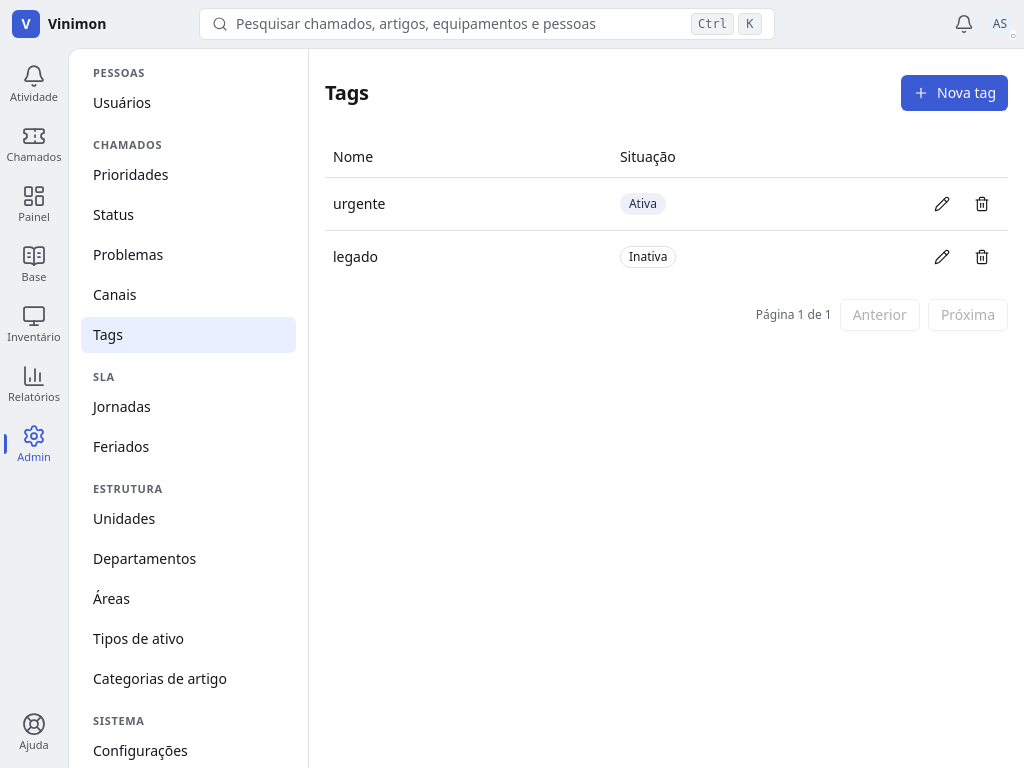
Test: /admin/tags › (c) 409 ao excluir mostra a mensagem do servidor
What coordinates should you click on to do the following:
click the button named "Excluir urgente"
I would click on:
 (982, 204)
Its box is x1=964 y1=186 x2=1000 y2=222.
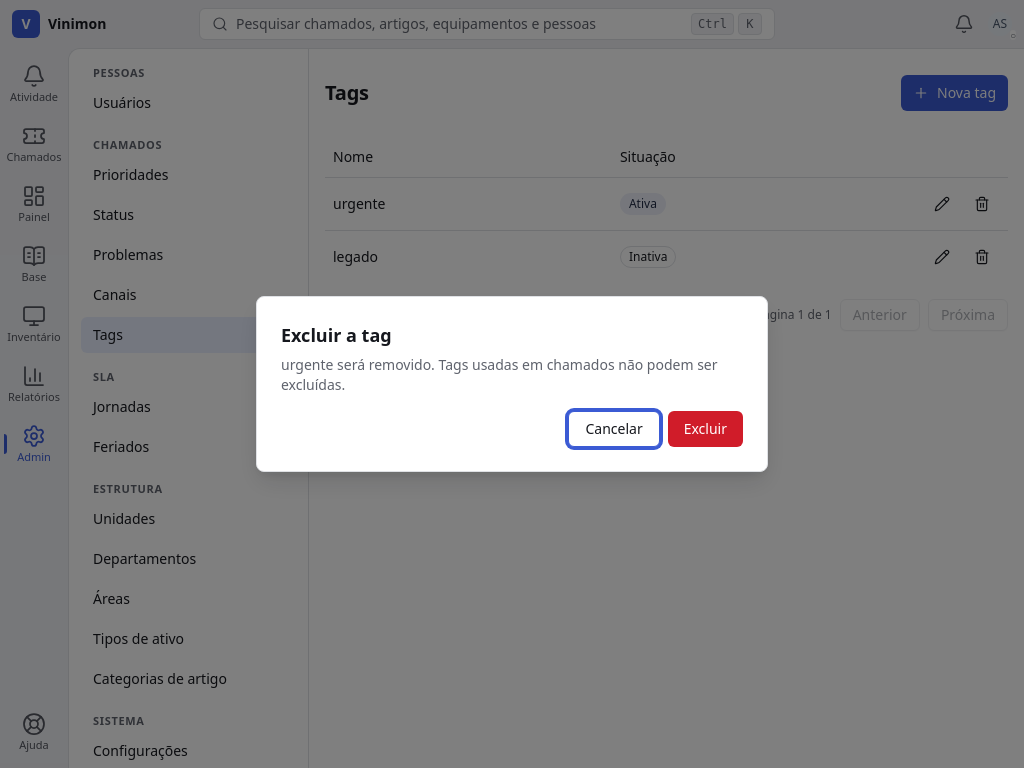
What coordinates should you click on to do the following:
click the button "Excluir"
I would click on:
 (705, 429)
Its box is x1=668 y1=411 x2=743 y2=447.
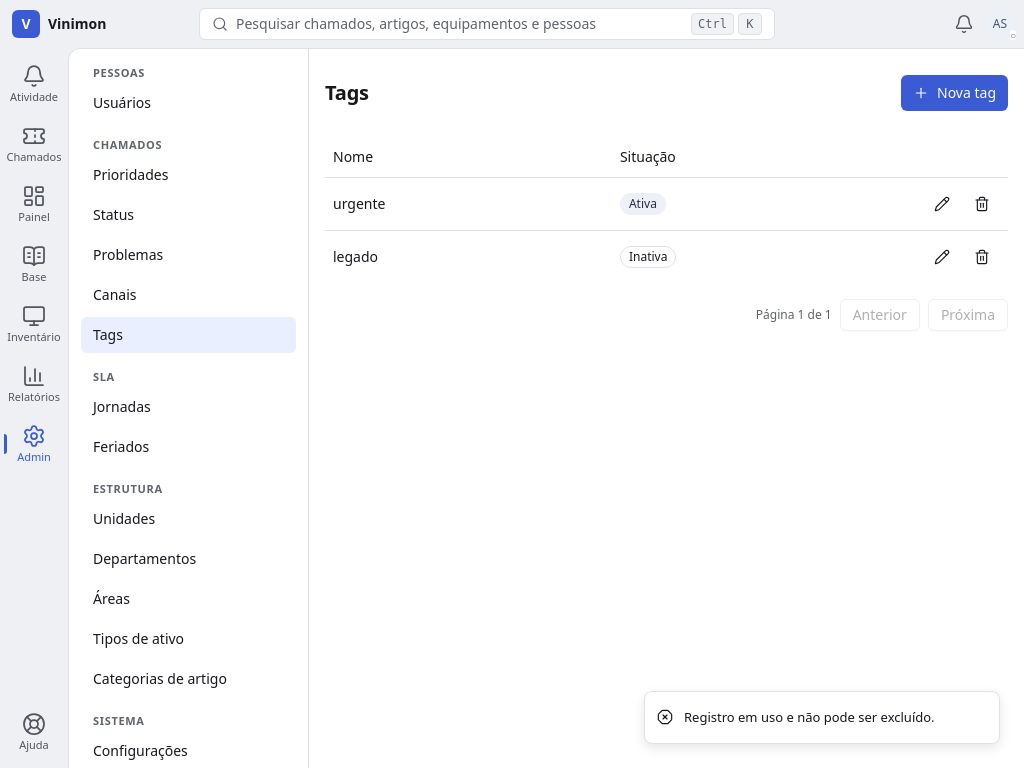
Check: the text "Registro em uso e não pode ser excluído." is shown, box x1=684 y1=708 x2=935 y2=727
